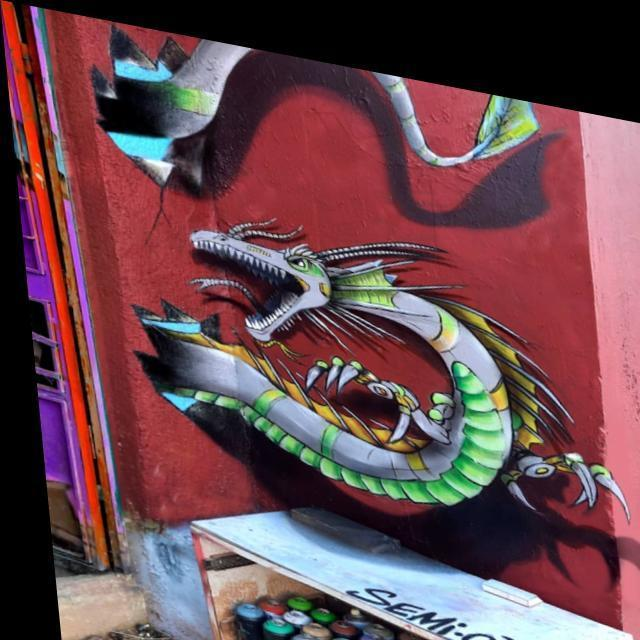-: (70, 11, 616, 584), (345, 557, 541, 640)
